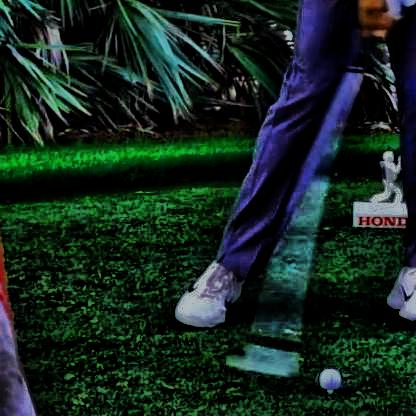golfball: (315, 365, 341, 389)
